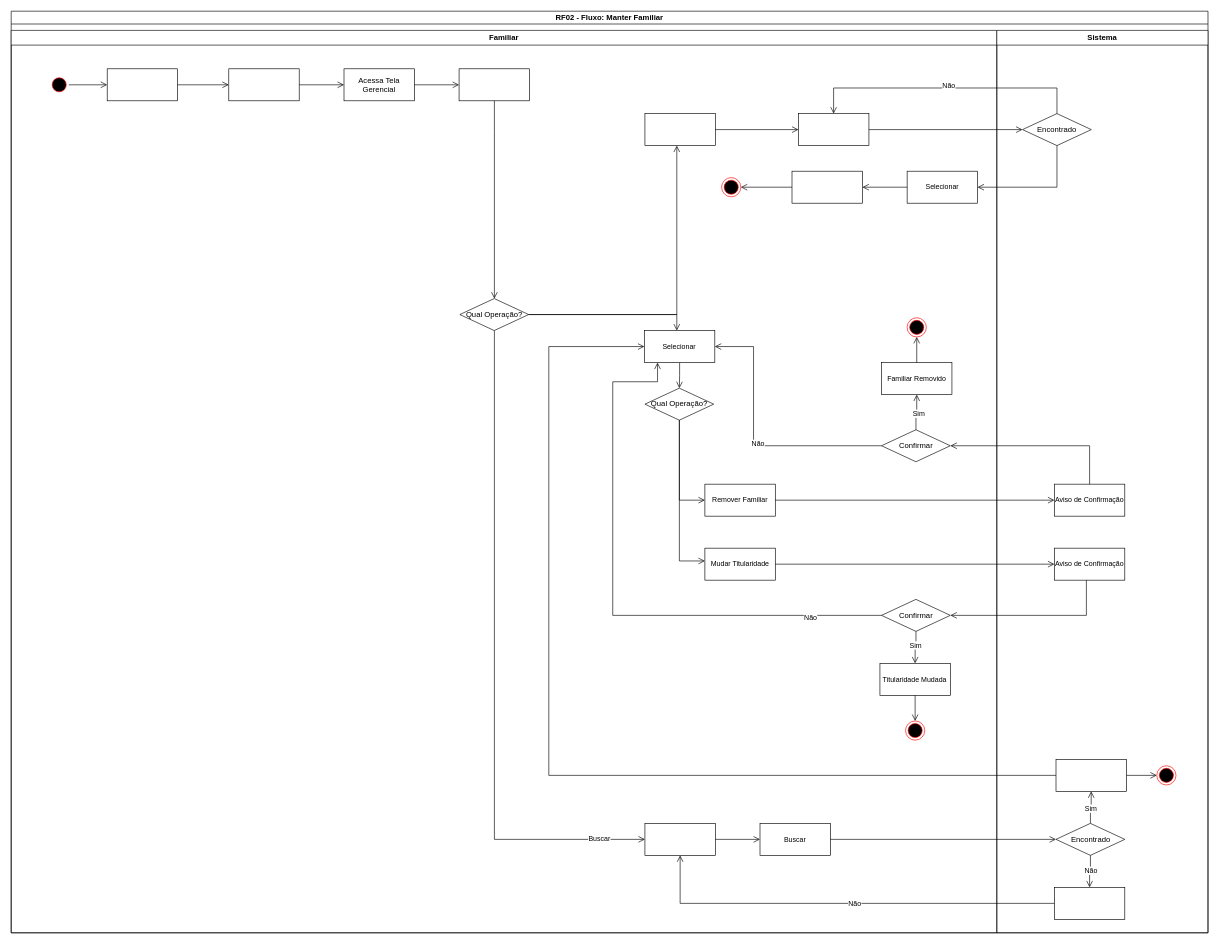
Image size: 1219x944. Some labels were removed from this diagram. The shapes that lost their labels are listed below. From the top down, each one's centre as x and y in pixels, then its label:
point 142,84: O Familiar Acessa o Gerenciamento de Paciente
point 263,84: Seleciona o Paciente
point 493,84: Seleciona a Opção "Gerenciar Membros da Família"
point 679,129: Adicionar
point 833,129: Preencher Dado do Familiar
point 826,187: Enviar Convite de para se Tornar Membro
point 1090,775: Exibir Mensagem Lista de Familiares
point 679,839: Preencher Formulário Busca
point 1089,903: Exibir Mensagem "Nenhum Familiar Encontrado"
